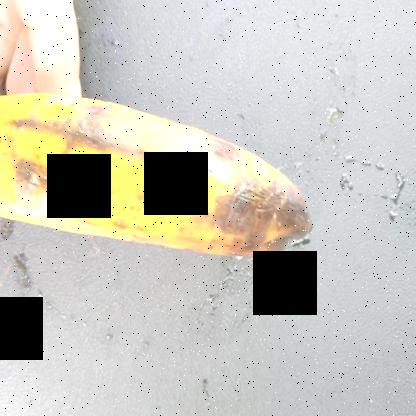rotten: (0, 78, 326, 262)
